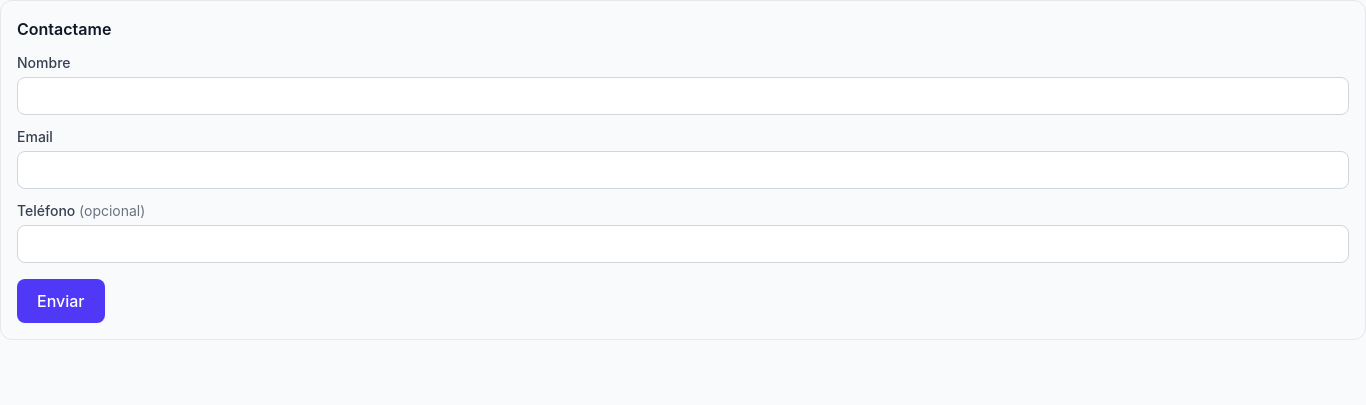
Test: ContactForm › shows a retryable error and keeps the typed data when the request fails
Type "Ana García" into the field labelled "Nombre". click: [683, 96]
box: [17,77,1349,115]
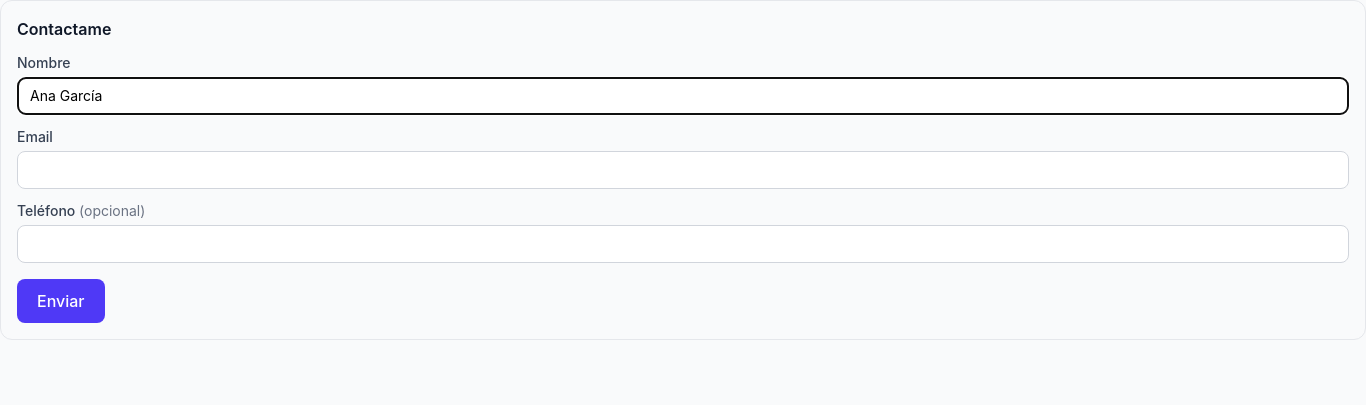
Type "ana@example.com" into the field labelled "Email". click: [683, 170]
box: [17,151,1349,189]
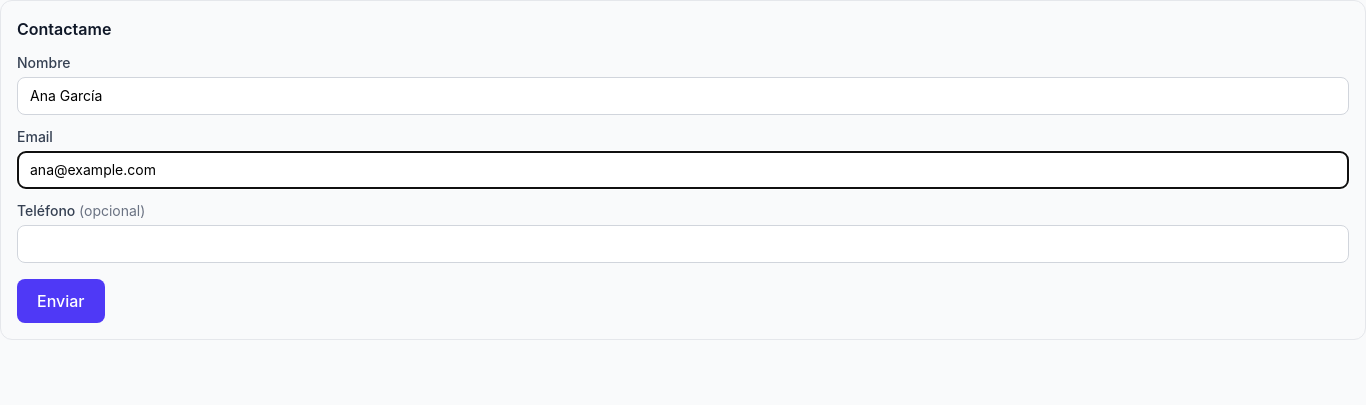
Click the button "Enviar". click: [61, 301]
box: [17,279,104,323]
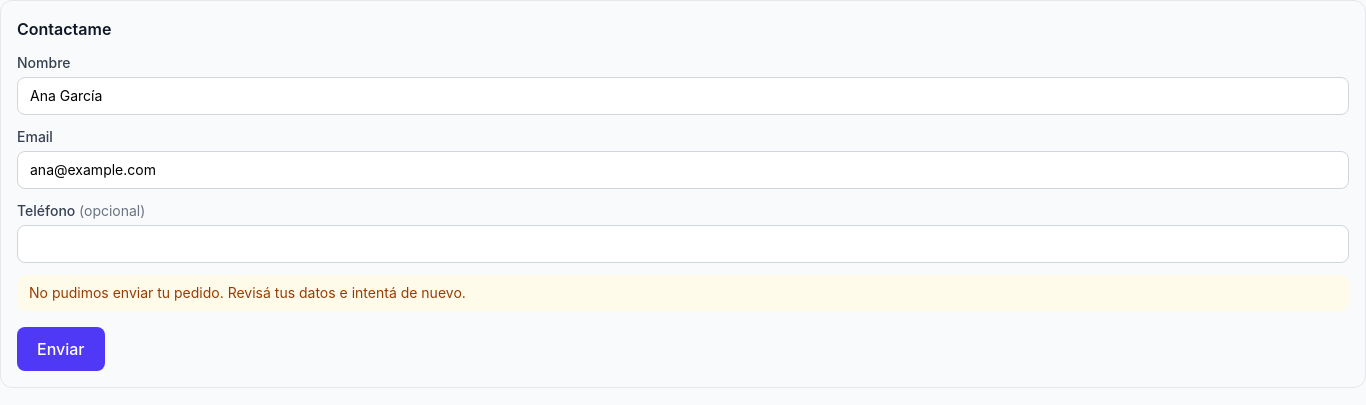
Check: the button "Enviar" is enabled, box [17,327,104,371]
Check: the message shows "No pudimos enviar", box [29,284,466,301]
